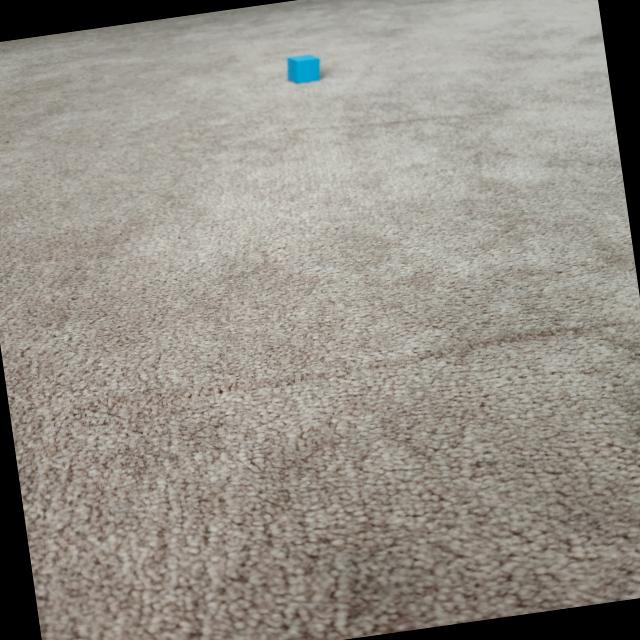bluecube: (284, 52, 324, 86)
